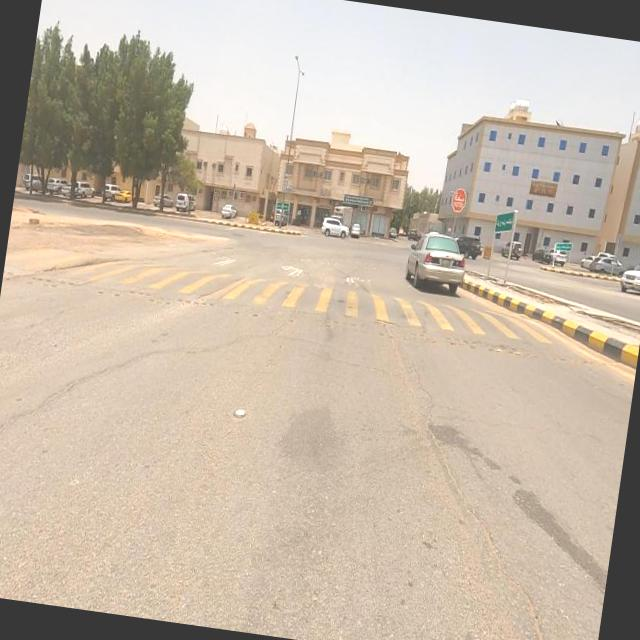debris: (494, 144, 596, 230)
